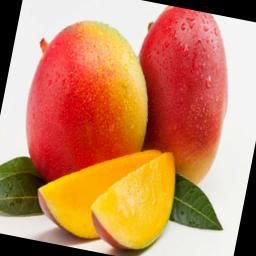Mango Ripe: (0, 6, 172, 200), (103, 0, 256, 192)
